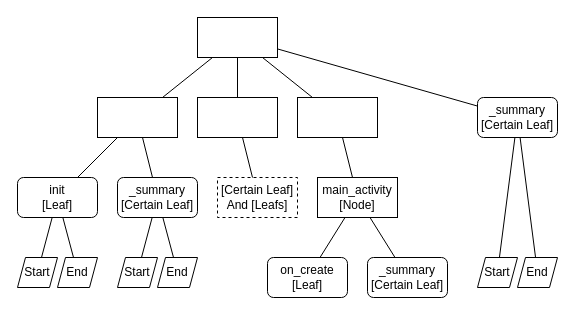
Image size: 575x315. Some labels were removed from this diagram. Here are the shapes that lost their labels. From the top down, the box of each, then its label:
(196, 16, 278, 58): phases [Root Node]
(96, 96, 178, 138): initialization [Node]
(196, 96, 278, 138): launch [Node]
(296, 96, 378, 138): main [Node]
